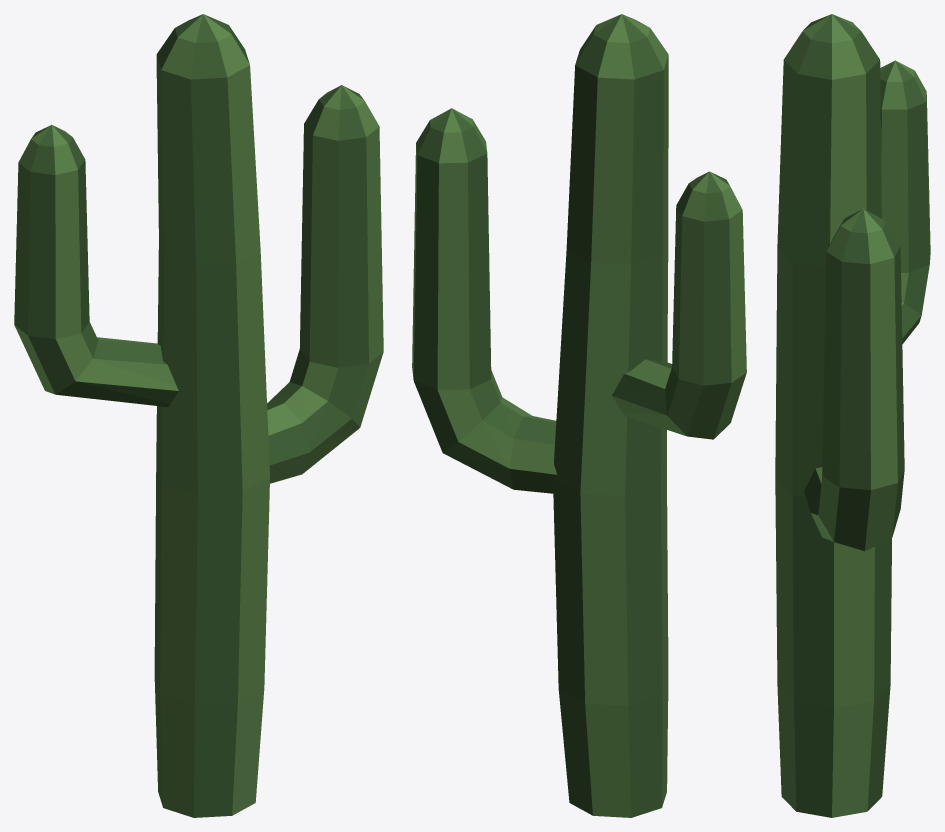
File: cactus_tall.glb
The picture shows the model from 3 angles, left to right: view 1: azimuth 30°, elevation 25°; view 2: azimuth 150°, elevation 25°; view 3: azimuth 270°, elevation 25°; orthographic projection.
Parts seen in each view (by area): view 1: cactus_tall; view 2: cactus_tall; view 3: cactus_tall.
Boxes of the visible parts, x1=… form: cactus_tall: x1=14, y1=14, x2=383, y2=817; cactus_tall: x1=412, y1=14, x2=746, y2=817; cactus_tall: x1=775, y1=14, x2=930, y2=817.
Size of what is drawn, in the model's own units: 1.87 by 4.11 by 0.741.
1 material, 1 textured.
